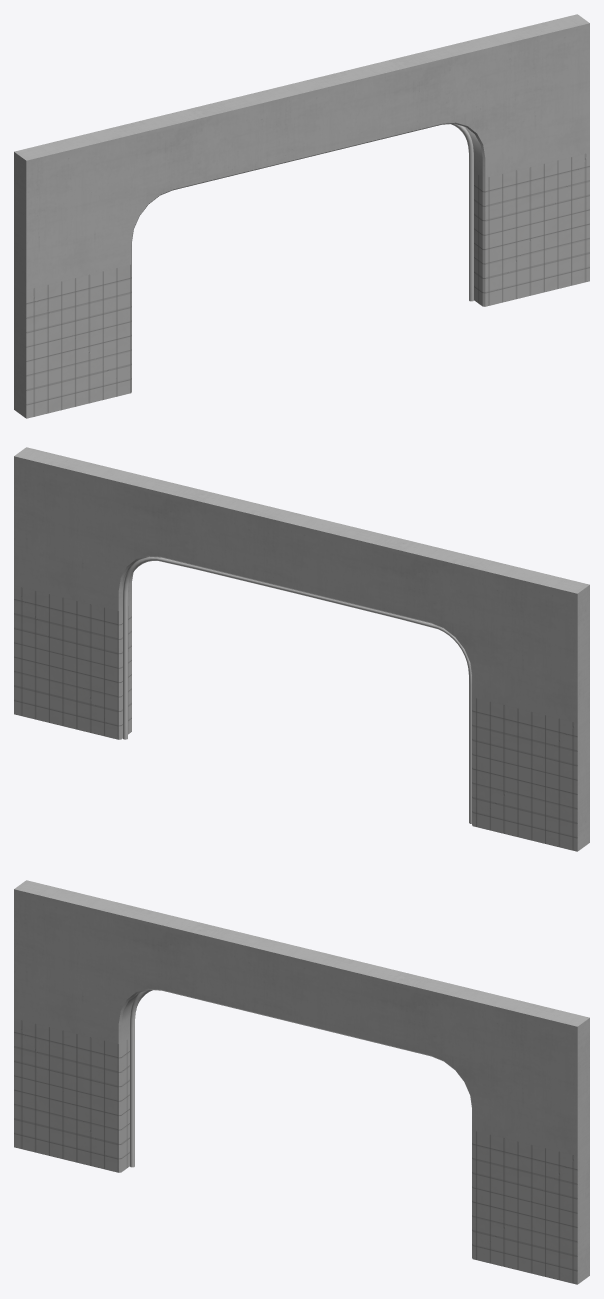
The model's file is SM_Gate.fbx.
3 views of the same model, one above another, from view 1: azimuth 30°, elevation 25°; view 2: azimuth 150°, elevation 25°; view 3: azimuth 330°, elevation 25° (orthographic).
Parts seen in each view (by area): view 1: SM_Gate_LOD0; view 2: SM_Gate_LOD0; view 3: SM_Gate_LOD0.
Boxes of the visible parts, x1,y1,x2,y2 form: SM_Gate_LOD0: [14, 14, 589, 418]; SM_Gate_LOD0: [14, 447, 589, 851]; SM_Gate_LOD0: [14, 880, 589, 1284].
Size of the model in its own units: 800 by 30.52 by 350.
2 materials, 1 textured.
